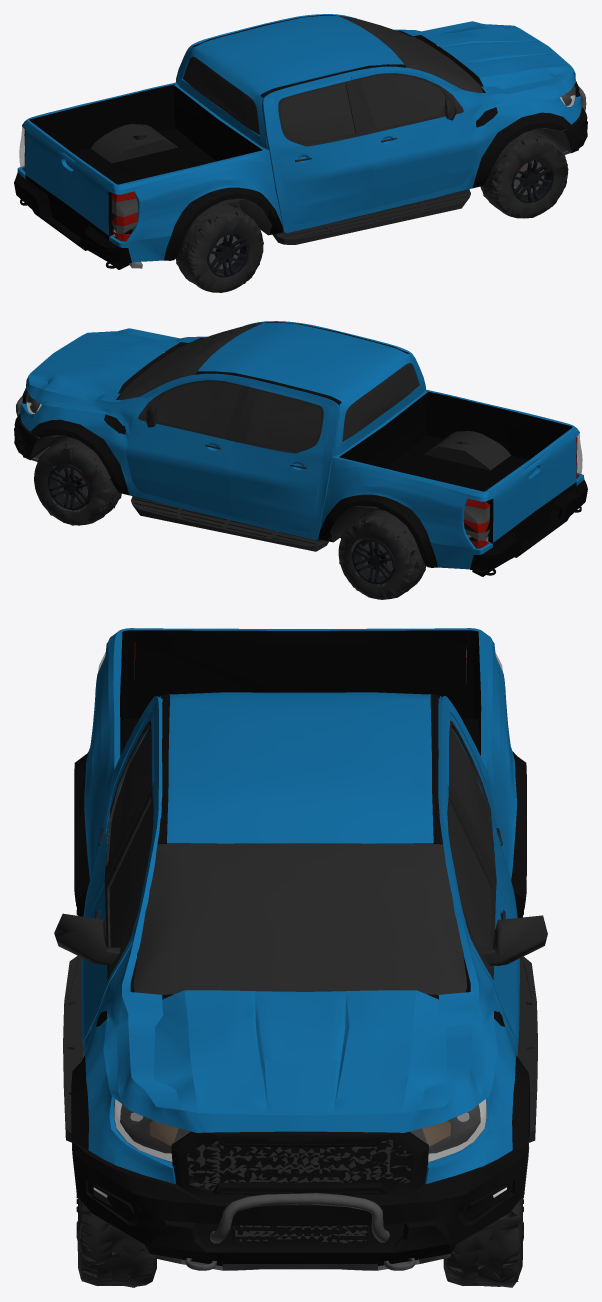
File: offroad.glb
3 views of the same model, one above another, from view 1: azimuth 30°, elevation 25°; view 2: azimuth 150°, elevation 25°; view 3: azimuth 270°, elevation 25° (orthographic). The views are drawn at different scales.
Bounding box in the file's own units: 5.21 × 1.74 × 2.19.
